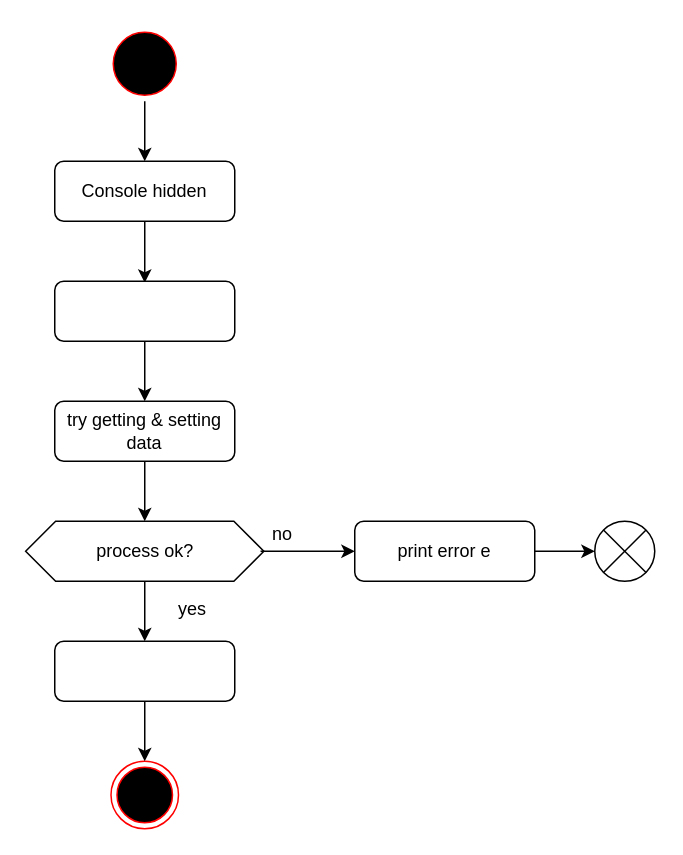
Image size: 683x855. Some labels were removed from this diagram. The centre of each missing label's shape, as x and y in pixels:
"Initialise connection" belongs at [144,310].
"proceed" belongs at [144,670].
